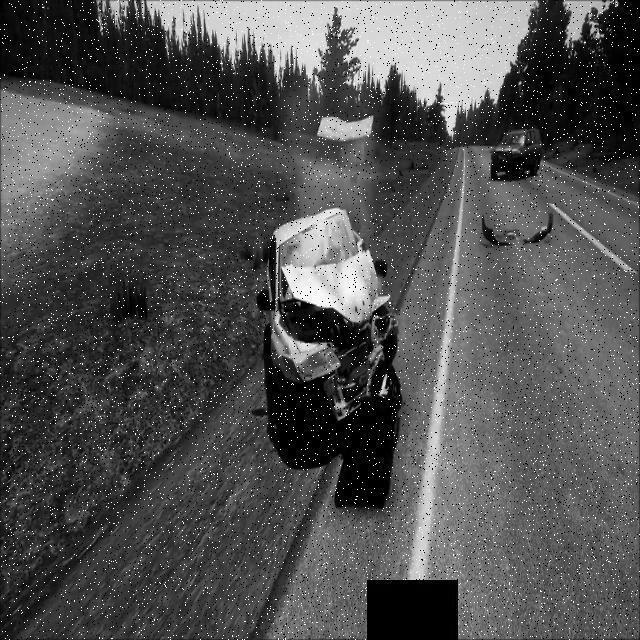accident: (256, 201, 401, 453)
vehicle: (488, 127, 543, 183)
